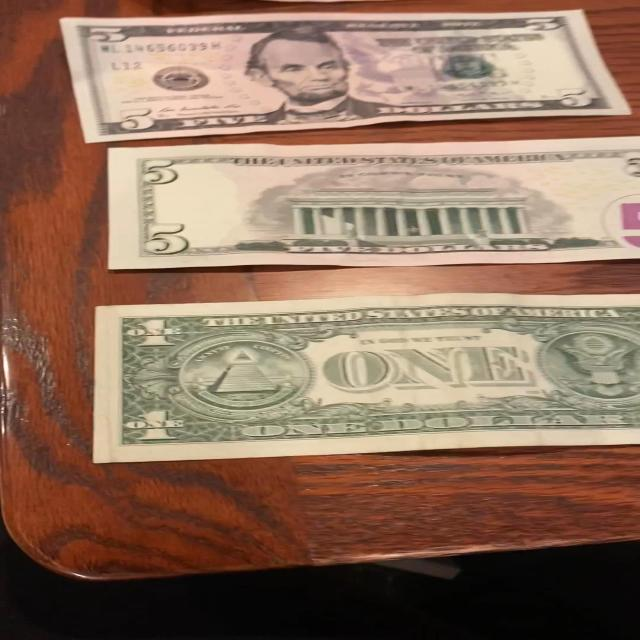1-Back: (88, 302, 638, 463)
5-Back: (106, 137, 640, 274)
5-Front: (64, 7, 640, 142)
